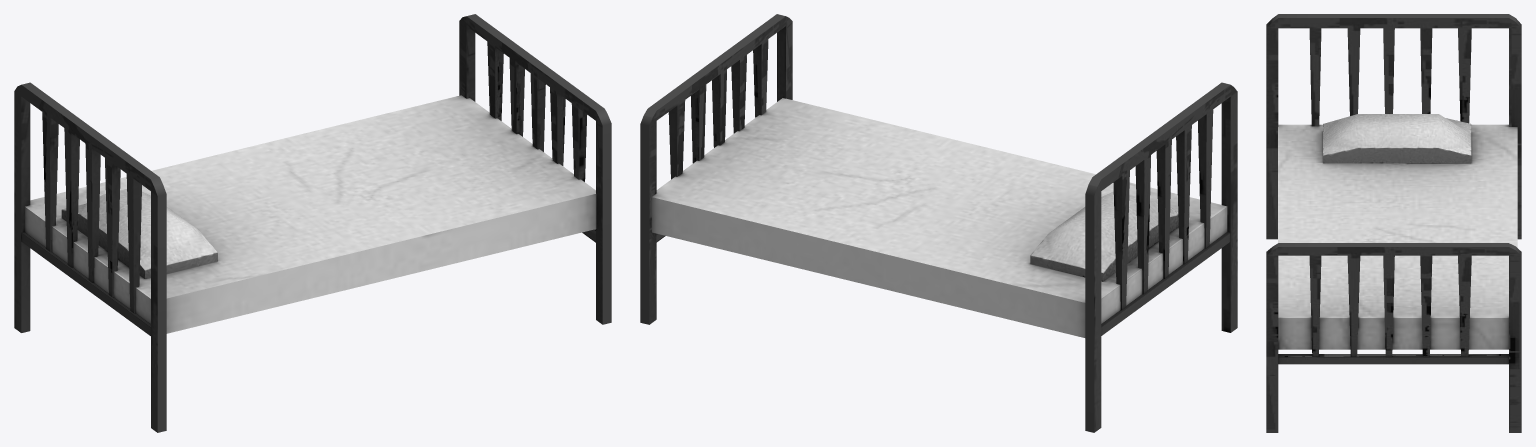
Rendered from BedExport.fbx.
3 views of the same model, side by side, from view 1: azimuth 30°, elevation 25°; view 2: azimuth 150°, elevation 25°; view 3: azimuth 270°, elevation 25° (orthographic). The views are drawn at different scales.
Visible parts, largest first — view 1: pCube7; view 2: pCube7; view 3: pCube7.
Part boxes in pixels (left/top/right/bottom): pCube7: left=14, top=14, right=611, bottom=432; pCube7: left=640, top=14, right=1237, bottom=432; pCube7: left=1266, top=14, right=1521, bottom=432.
Bounding box in the file's own units: 14.77 × 7.74 × 8.08.
